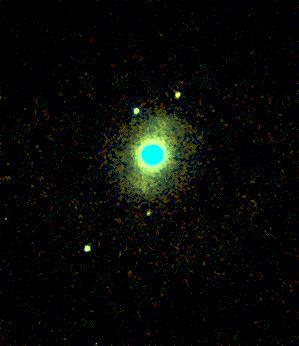star: (134, 198, 164, 228)
